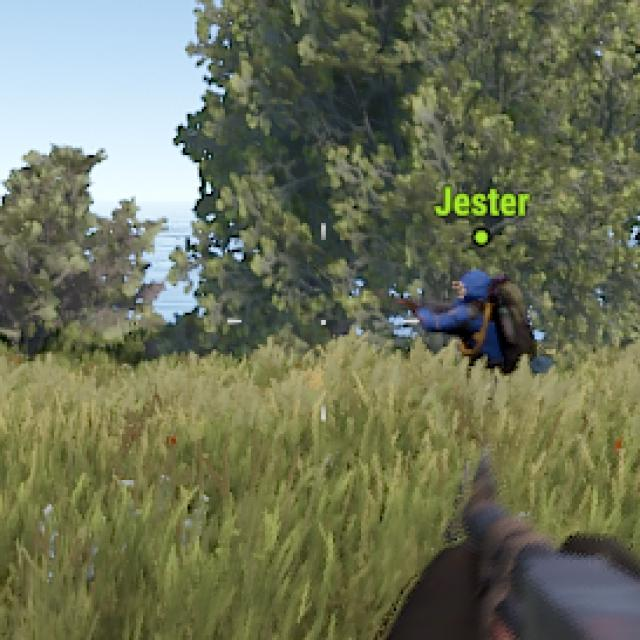Player: (446, 270, 535, 368)
